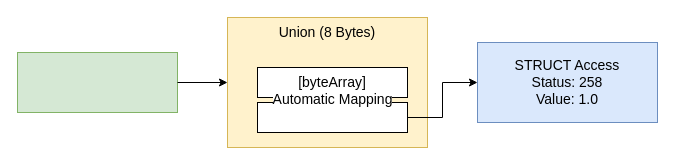
Image size: 675x165. Some labels were removed from this diagram. Each missing label, with the centre of its shape:
"[SensorStruct]" belongs at point (332, 117).
"Byte Stream (8 Bytes) [01][02][3F][80][...]" belongs at point (97, 82).
